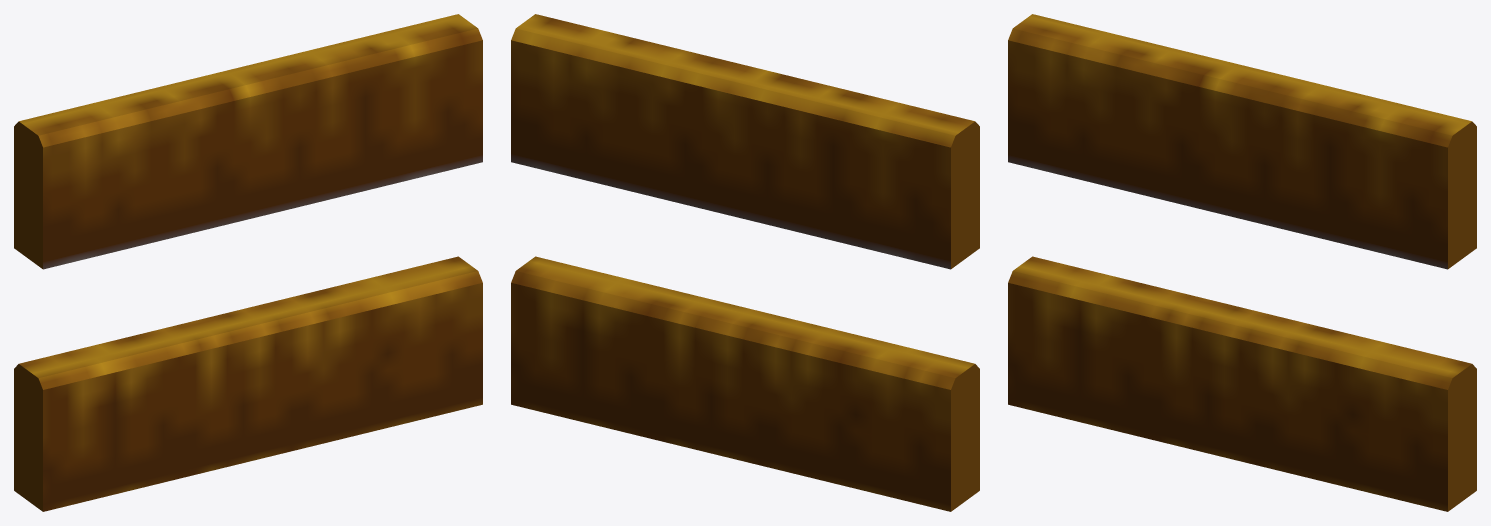
File: fenceboard_lightwood_0378x02.obj
The picture shows the model from 3 angles, left to right: view 1: azimuth 30°, elevation 25°; view 2: azimuth 150°, elevation 25°; view 3: azimuth 330°, elevation 25°; orthographic projection.
Visible parts, largest first — view 1: fenceboard_lightwood; view 2: fenceboard_lightwood; view 3: fenceboard_lightwood.
Part boxes in pixels (x1,y1,x2,y2): fenceboard_lightwood: (14, 14, 482, 511); fenceboard_lightwood: (511, 14, 979, 511); fenceboard_lightwood: (1008, 14, 1476, 511).
Size of the model in its own units: 2.23 by 1.81 by 0.2551.
